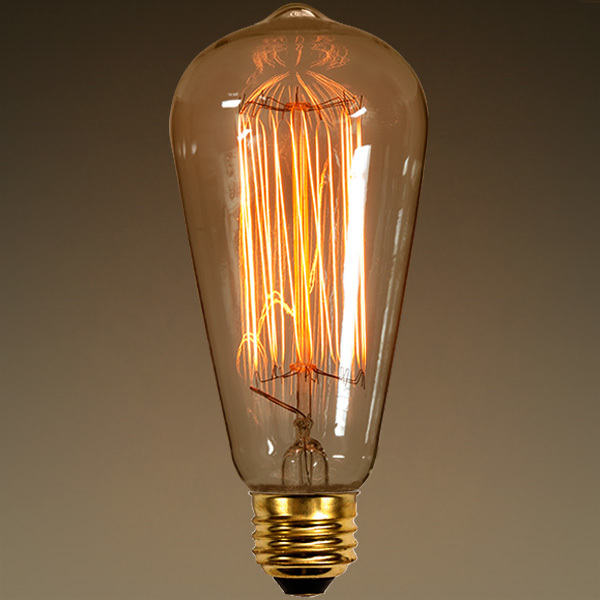Nonrec_Glass: (154, 3, 435, 590)
